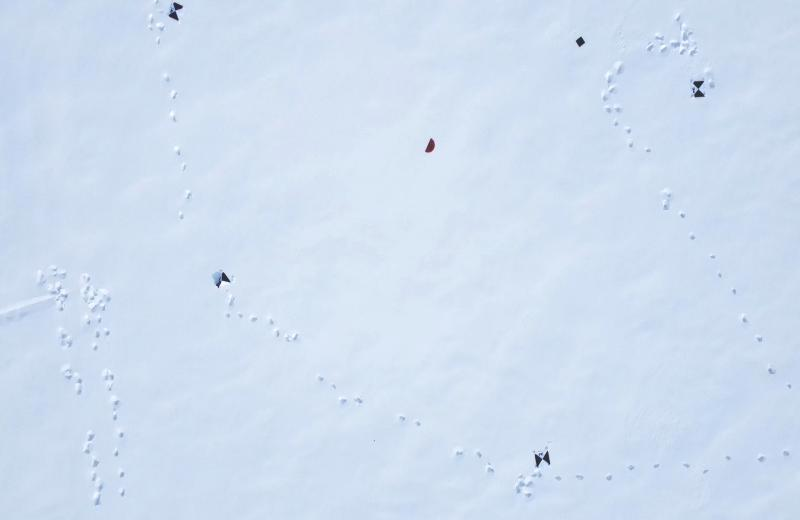Semi Circle: (424, 136, 436, 154)
Square: (574, 35, 586, 49)
